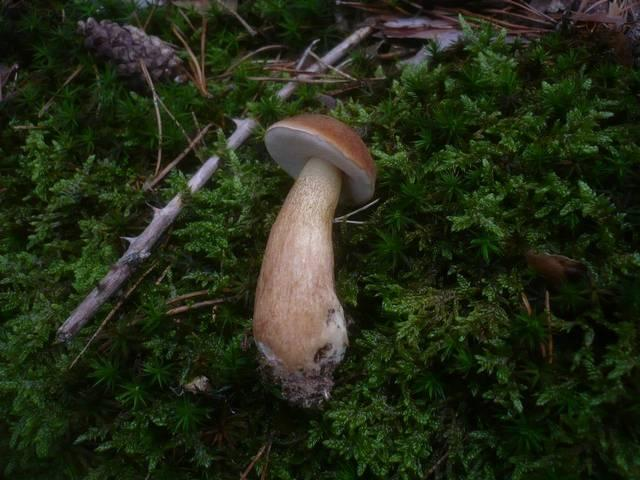poisonous_mushroom: (250, 111, 377, 410)
